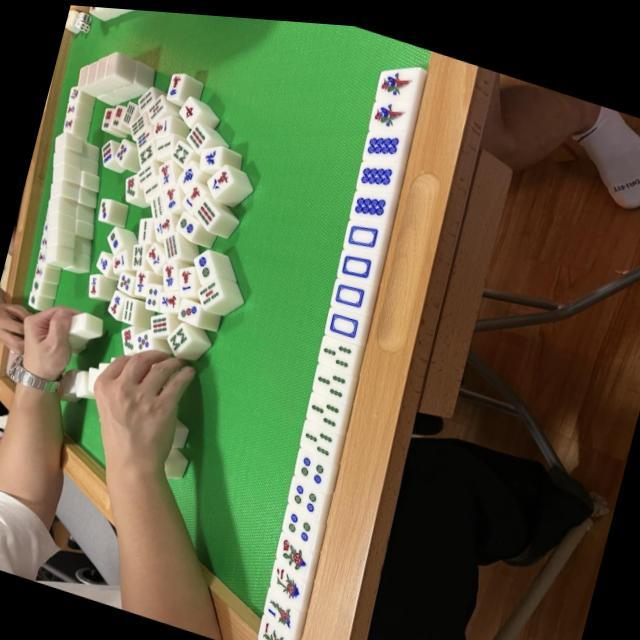bf1: (262, 592, 299, 625)
bs1: (254, 616, 294, 640)
bs2: (268, 560, 307, 596)
bs4: (276, 532, 312, 566)
hdw: (332, 271, 370, 306), (338, 242, 374, 278), (326, 302, 364, 336), (346, 211, 382, 245)
sb1: (377, 58, 418, 96), (370, 91, 409, 126)
sb3: (300, 418, 337, 453), (308, 389, 344, 424), (314, 360, 351, 394), (318, 330, 355, 364)
sd4: (296, 446, 331, 481), (284, 504, 318, 538), (290, 476, 324, 508)
sd8: (358, 152, 398, 187), (366, 121, 404, 156), (352, 182, 390, 216)
